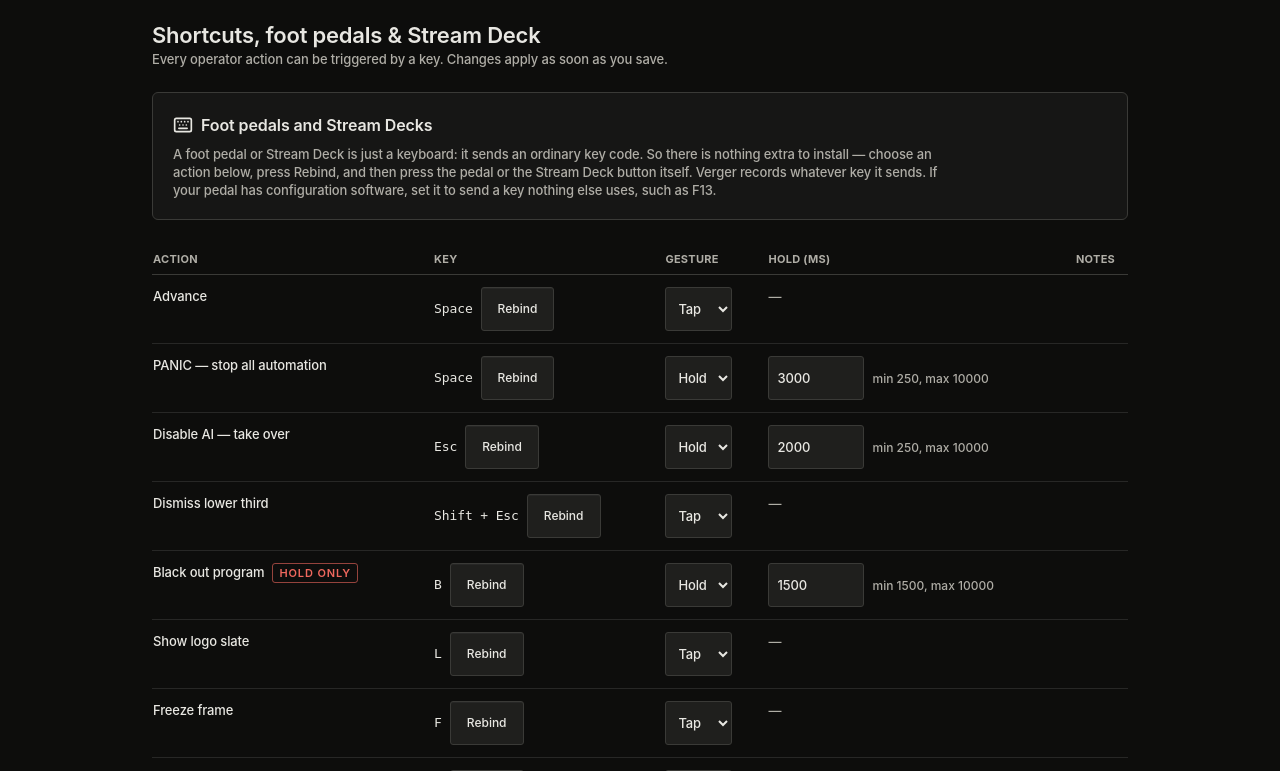
ShortcutSettings › records modifiers, and ignores a bare modifier so a chord can be pressed
Click the button with aria-label "rebind freeze frame": (487,723) [450,701,524,745]
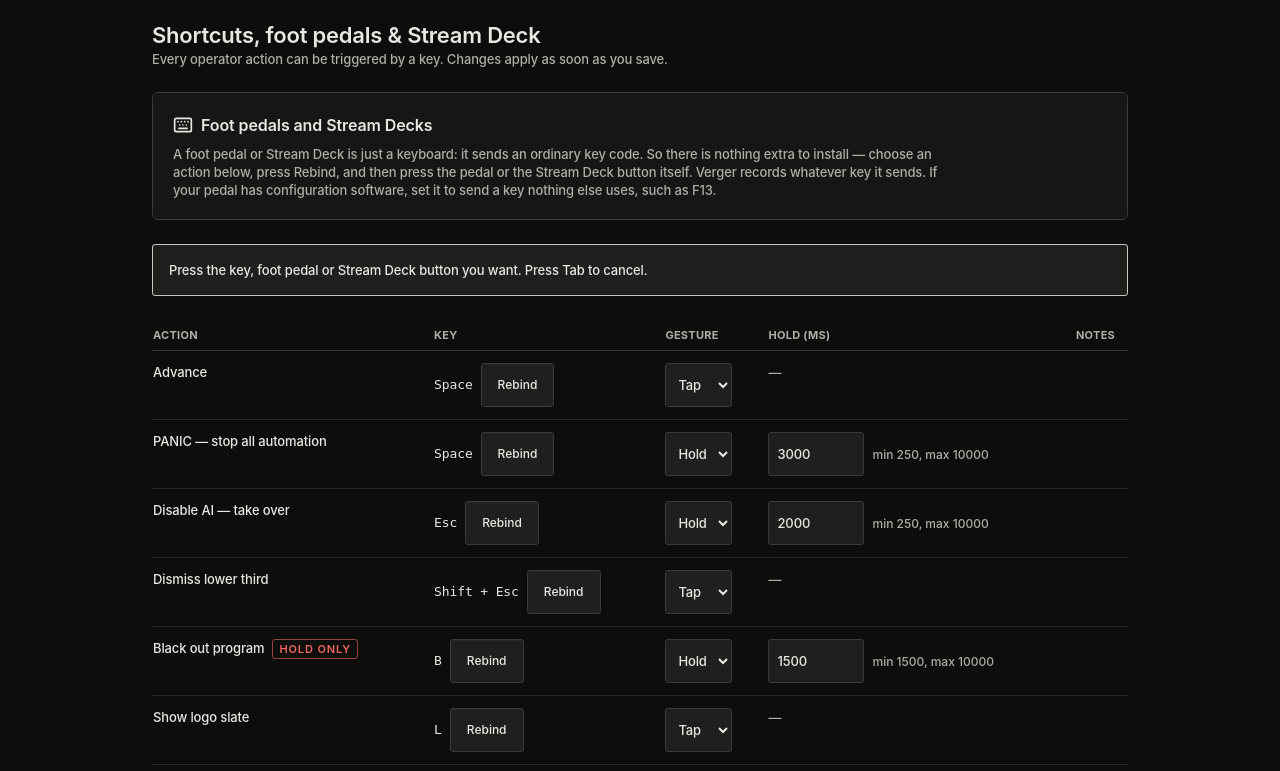
Press Shift
Expected: the text "Press the key, foot pedal or Stream Deck button you want. Press Tab to cancel." is shown, [152,244,1128,296]
Press F14
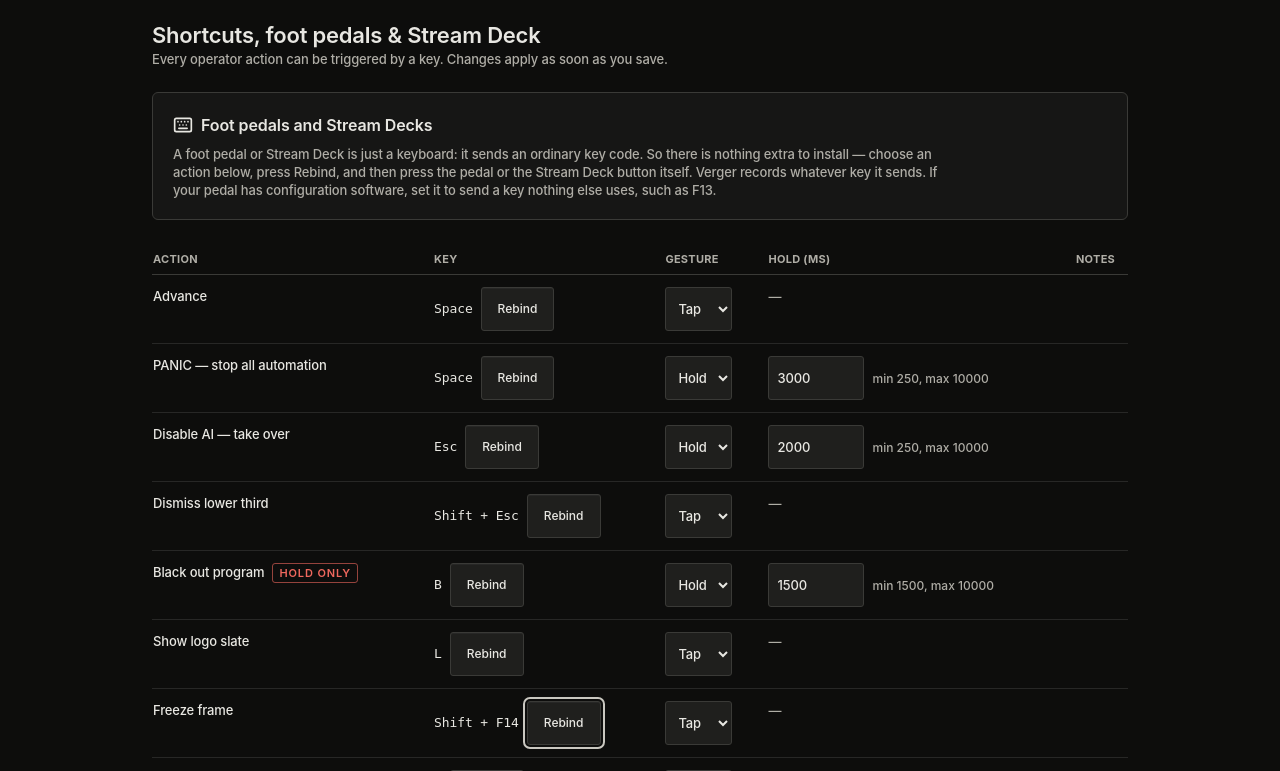
Expected: the text "Shift + F14" is shown, [434,715,519,730]
